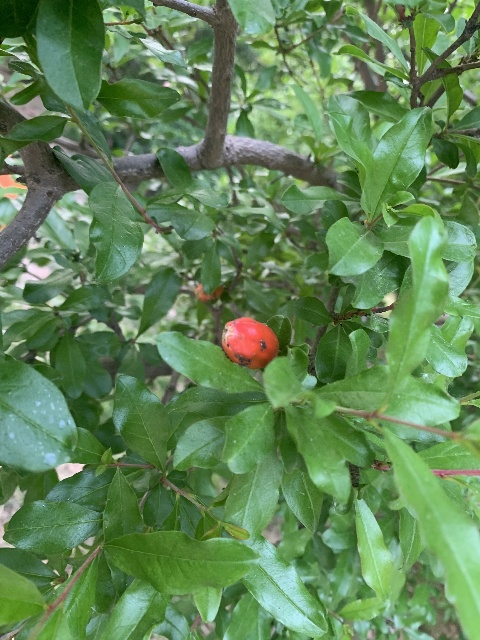bud: (221, 317, 277, 369), (194, 283, 223, 301)
